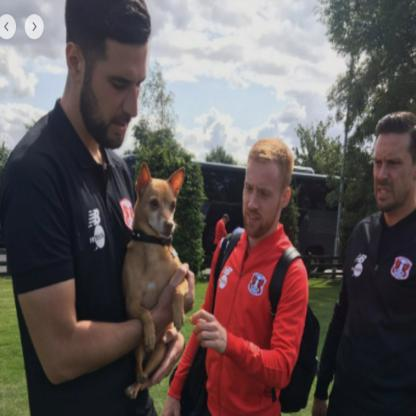dog: (126, 158, 195, 377)
